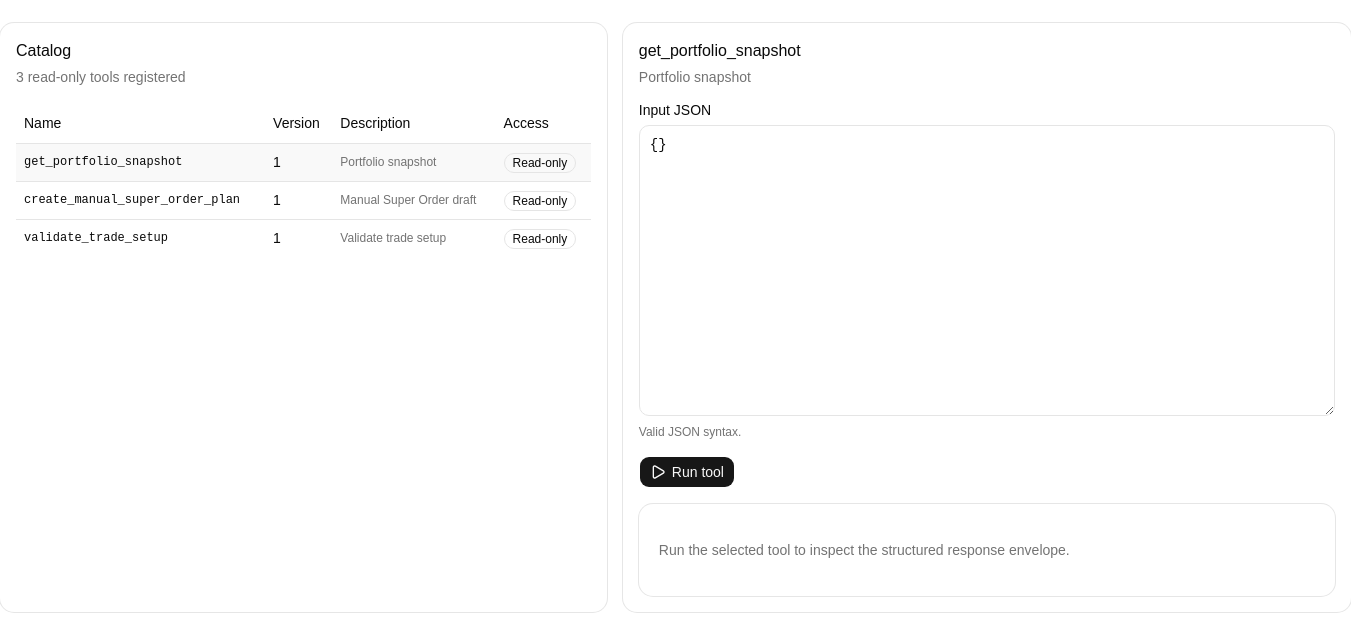
Test: ToolTesterPage › does not persist tool input or results in browser storage
Click the button with test id "tool-run-button" at (687, 472), box top-left (639, 456), bottom-right (735, 488)
(page scrolled)
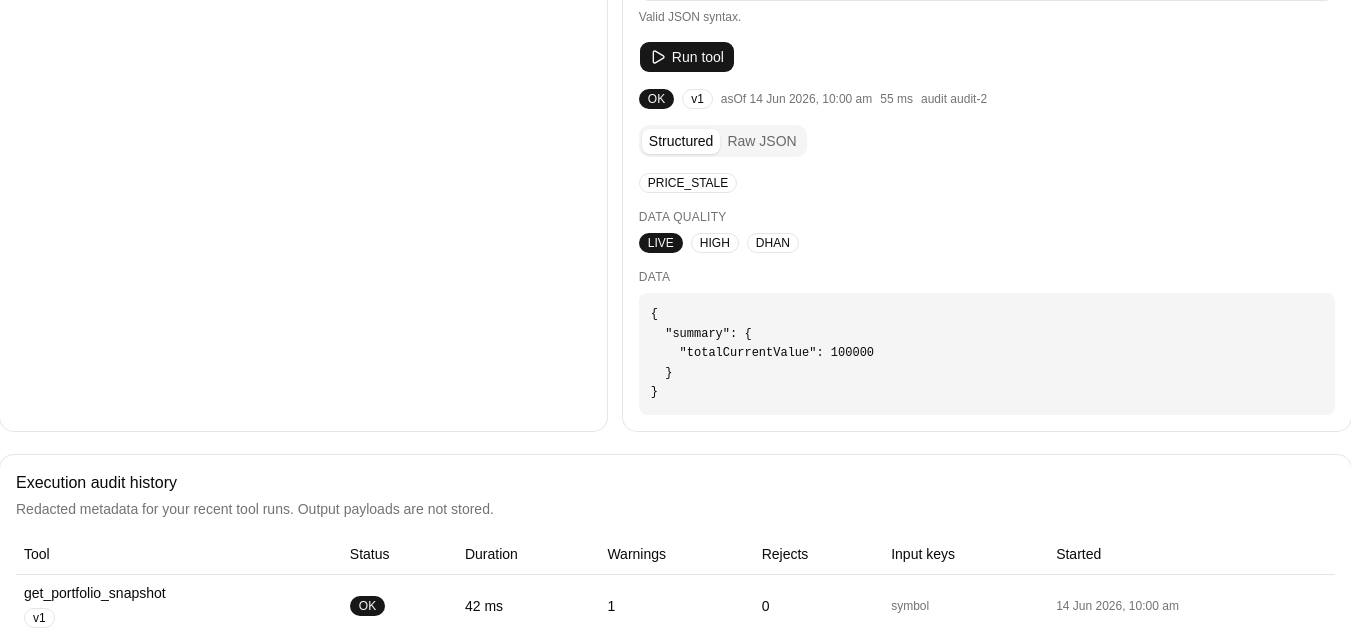
Expected: the element with test id "tool-envelope-view" is shown, top-left (639, 89), bottom-right (1335, 414)
